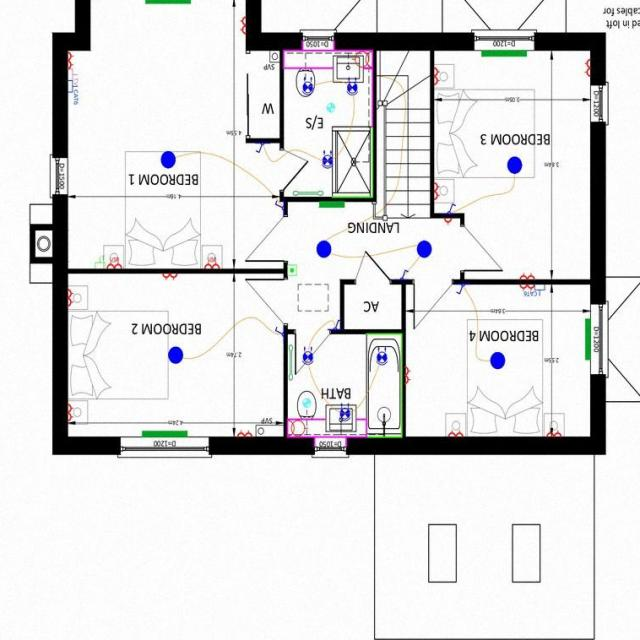Cat 6 Data Socket: (68, 81, 80, 106), (525, 286, 546, 298)
Ceiling Mounted Continuous Extract FanWith Boost Mode Activated By Light Switch: (303, 399, 312, 409), (328, 104, 336, 113)
Co-Ax TV Socket: (68, 71, 80, 86)
Double Socket: (240, 17, 248, 35), (434, 183, 442, 201), (546, 430, 563, 438), (434, 69, 442, 86), (68, 403, 74, 424), (238, 430, 253, 438), (163, 274, 178, 282), (584, 60, 591, 77), (69, 53, 76, 69), (69, 290, 75, 308), (521, 285, 535, 292), (521, 273, 535, 280), (406, 368, 412, 384), (448, 432, 464, 438)
Full Height Tiling: (366, 334, 404, 439), (334, 128, 374, 198)
Light Switch: (276, 326, 285, 337), (448, 204, 457, 214), (401, 270, 410, 280), (257, 144, 265, 154), (458, 286, 466, 296), (275, 202, 285, 210), (334, 320, 341, 330)
Low Energy Downlighter: (346, 79, 360, 96), (302, 78, 315, 96), (322, 151, 334, 170), (376, 347, 388, 366), (303, 347, 315, 366), (341, 404, 352, 422)
Low Energy Pendant Light: (508, 157, 523, 176), (169, 347, 184, 365), (491, 353, 506, 370), (317, 242, 332, 259), (162, 152, 177, 169), (418, 241, 432, 259)
Programmable Room Thermostat: (289, 266, 298, 277)
Radiator: (482, 51, 528, 58), (143, 432, 188, 438), (586, 319, 592, 362), (146, 0, 192, 4), (320, 202, 345, 208)
Shaver Socket: (353, 52, 373, 68), (288, 422, 309, 436)
Single Socket: (446, 220, 453, 226)
Telephone Socket: (95, 258, 106, 270)
USB Double Socket: (108, 258, 124, 270), (206, 258, 220, 270)
